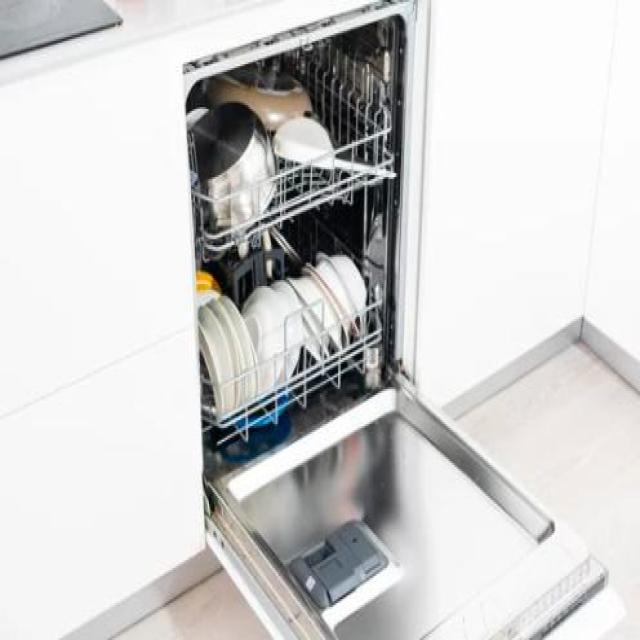dishwasher: (169, 0, 630, 640)
